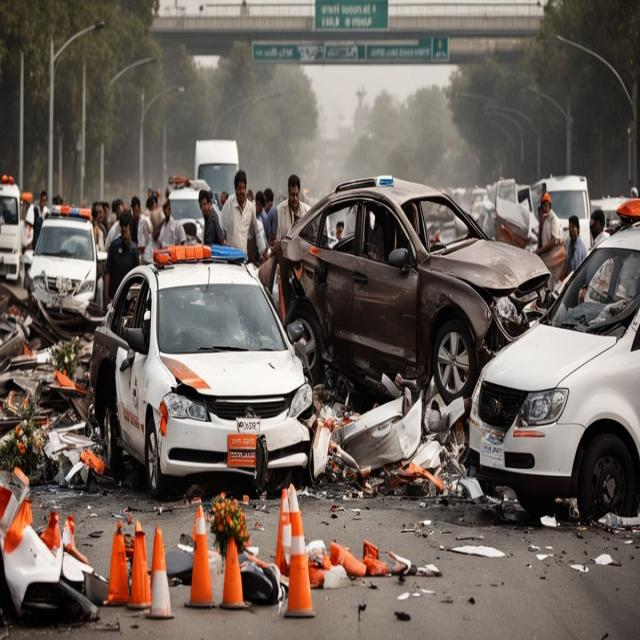accident: (284, 176, 549, 401), (91, 247, 311, 496), (29, 204, 106, 311)
car: (470, 198, 640, 521)
